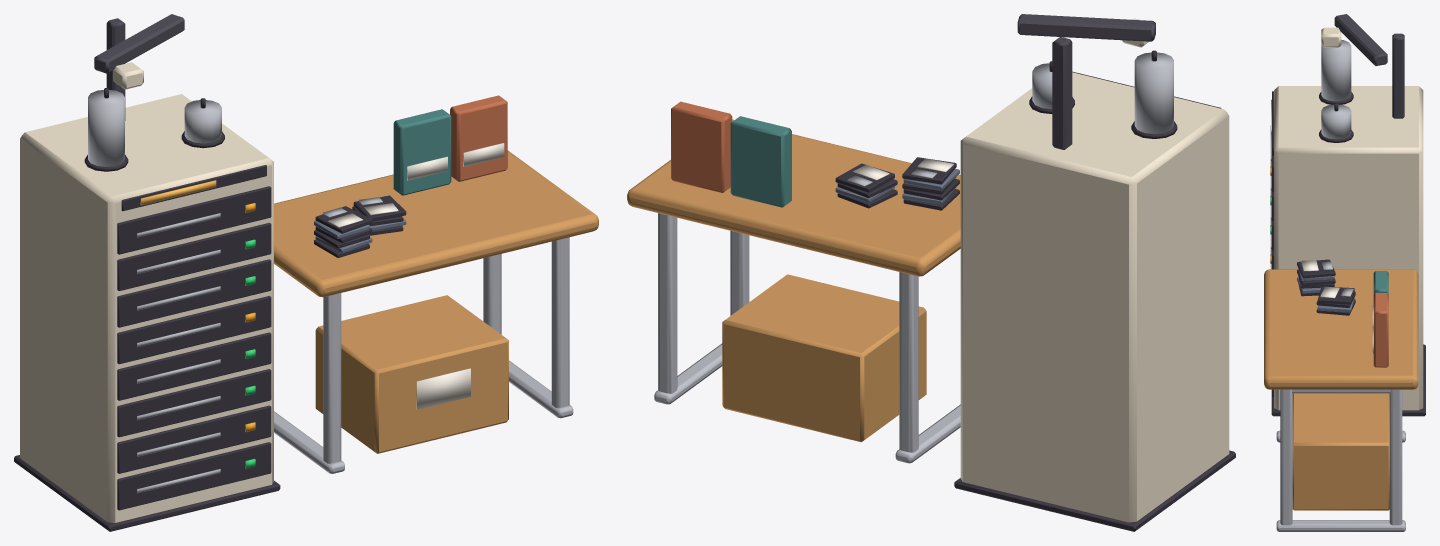
Rendered from disk_duplicator_l3.glb.
The picture shows the model from 3 angles, left to right: view 1: azimuth 30°, elevation 25°; view 2: azimuth 150°, elevation 25°; view 3: azimuth 270°, elevation 25°; orthographic projection. The views are drawn at different scales.
Visible parts, largest first — view 1: disk_duplicator_l3; view 2: disk_duplicator_l3; view 3: disk_duplicator_l3.
Boxes of the visible parts, left/top/right/bottom form: disk_duplicator_l3: left=14, top=14, right=598, bottom=531; disk_duplicator_l3: left=627, top=14, right=1235, bottom=531; disk_duplicator_l3: left=1264, top=14, right=1425, bottom=531.
Size of the model in its own units: 1.81 by 1.54 by 0.65.
